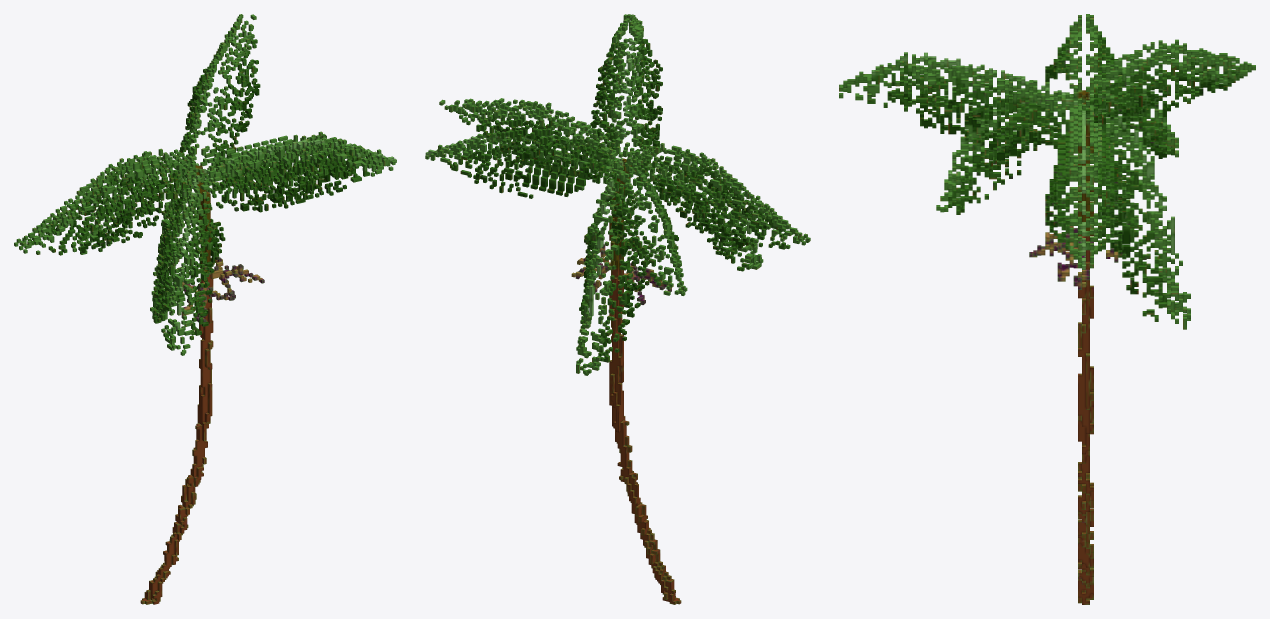
Rendered from Acaizeiro2.fbx.
3 views of the same model, side by side, from view 1: azimuth 30°, elevation 25°; view 2: azimuth 150°, elevation 25°; view 3: azimuth 270°, elevation 25° (orthographic). The views are drawn at different scales.
Parts seen in each view (by area): view 1: Açaizeiro2; view 2: Açaizeiro2; view 3: Açaizeiro2.
Boxes of the visible parts, bbox=[...] form: Açaizeiro2: bbox=[14, 14, 396, 604]; Açaizeiro2: bbox=[425, 14, 810, 604]; Açaizeiro2: bbox=[839, 14, 1255, 604].
Bounding box in the file's own units: 1360 × 1720 × 1030.
